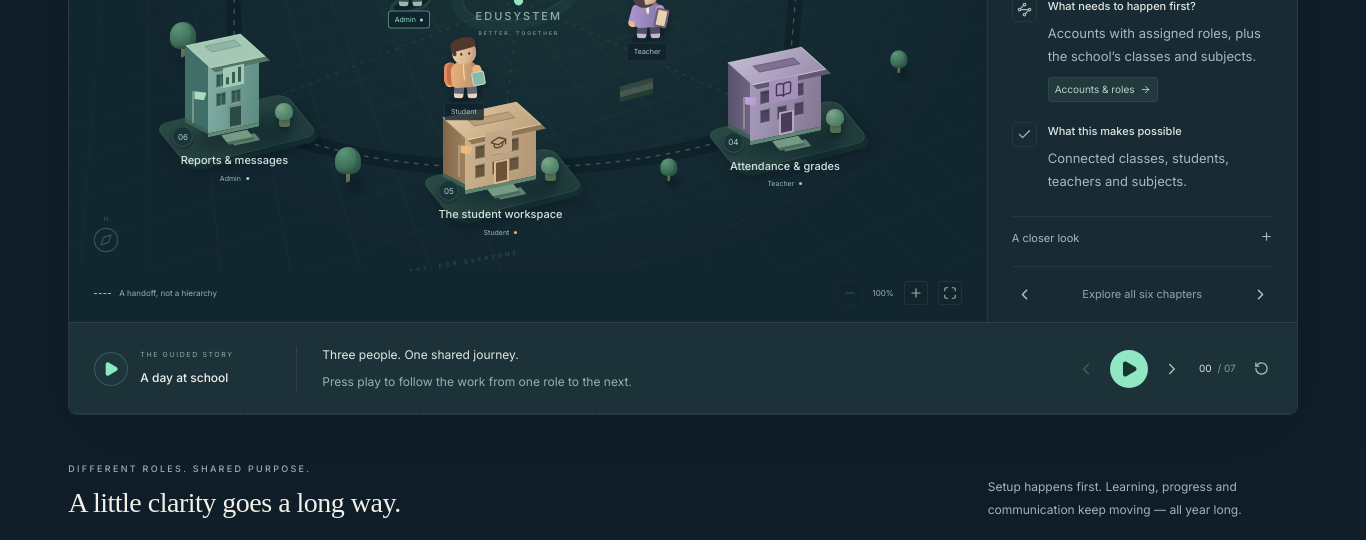
Test: school system journey › finishes the seven-step story and can restart without a stale timer
This screenshot has width=1366, height=540.
(page scrolled)
What coordinates should you click on to do the following:
click the button named "Play story"
I would click on:
 (1129, 369)
Its box is [1110,350,1148,388].
Wait 59500 ms
(page scrolled)
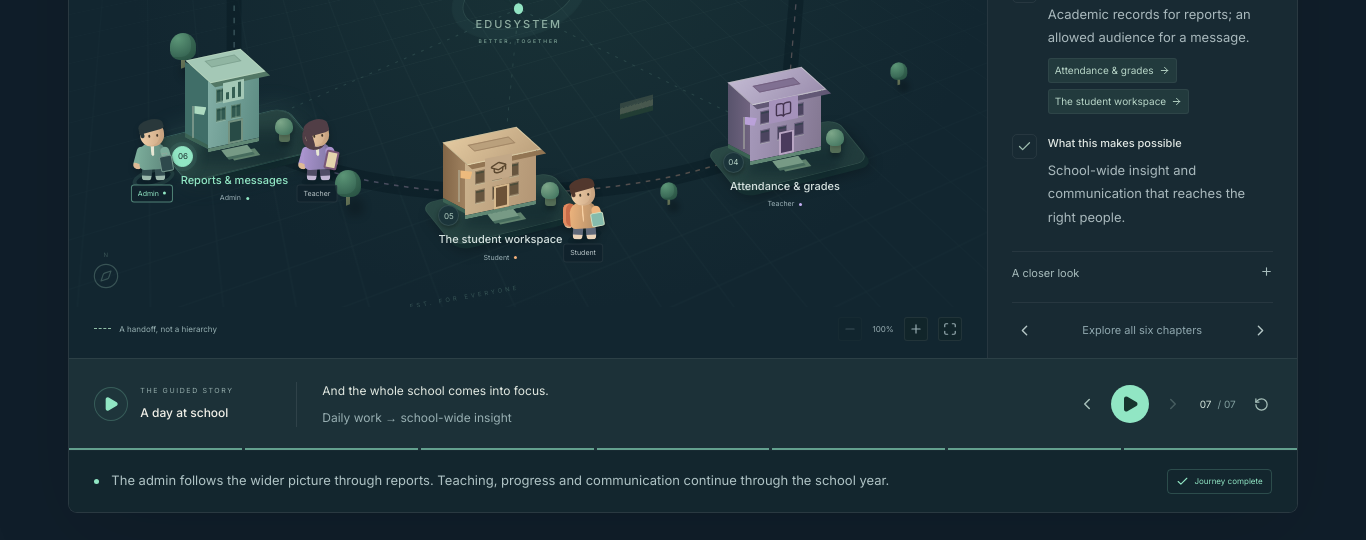
Now the text "Journey complete" is shown, box [1167,469,1272,494]
Now the button named "Next story step" is disabled, box [1161,392,1185,416]
What coordinates should you click on to do the following:
click the button named "Restart story"
I would click on:
 (1261, 404)
Its box is [1251,394,1272,415].
Wait 17000 ms
(page scrolled)
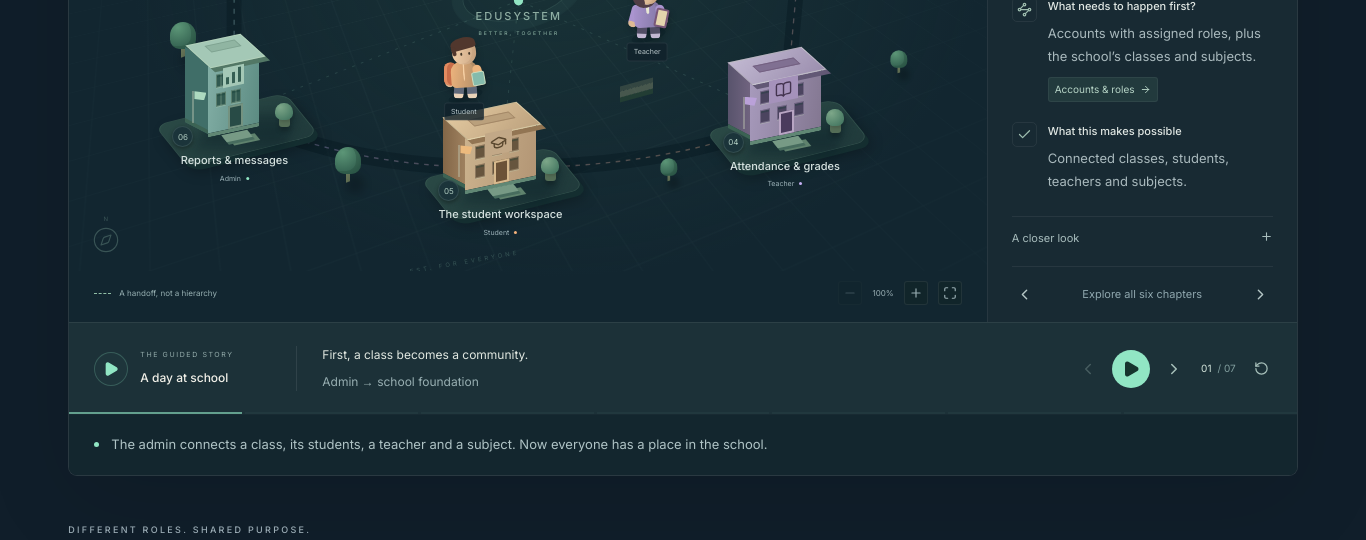
Now the text "First, a class becomes a community." is shown, box [322,347,528,362]
